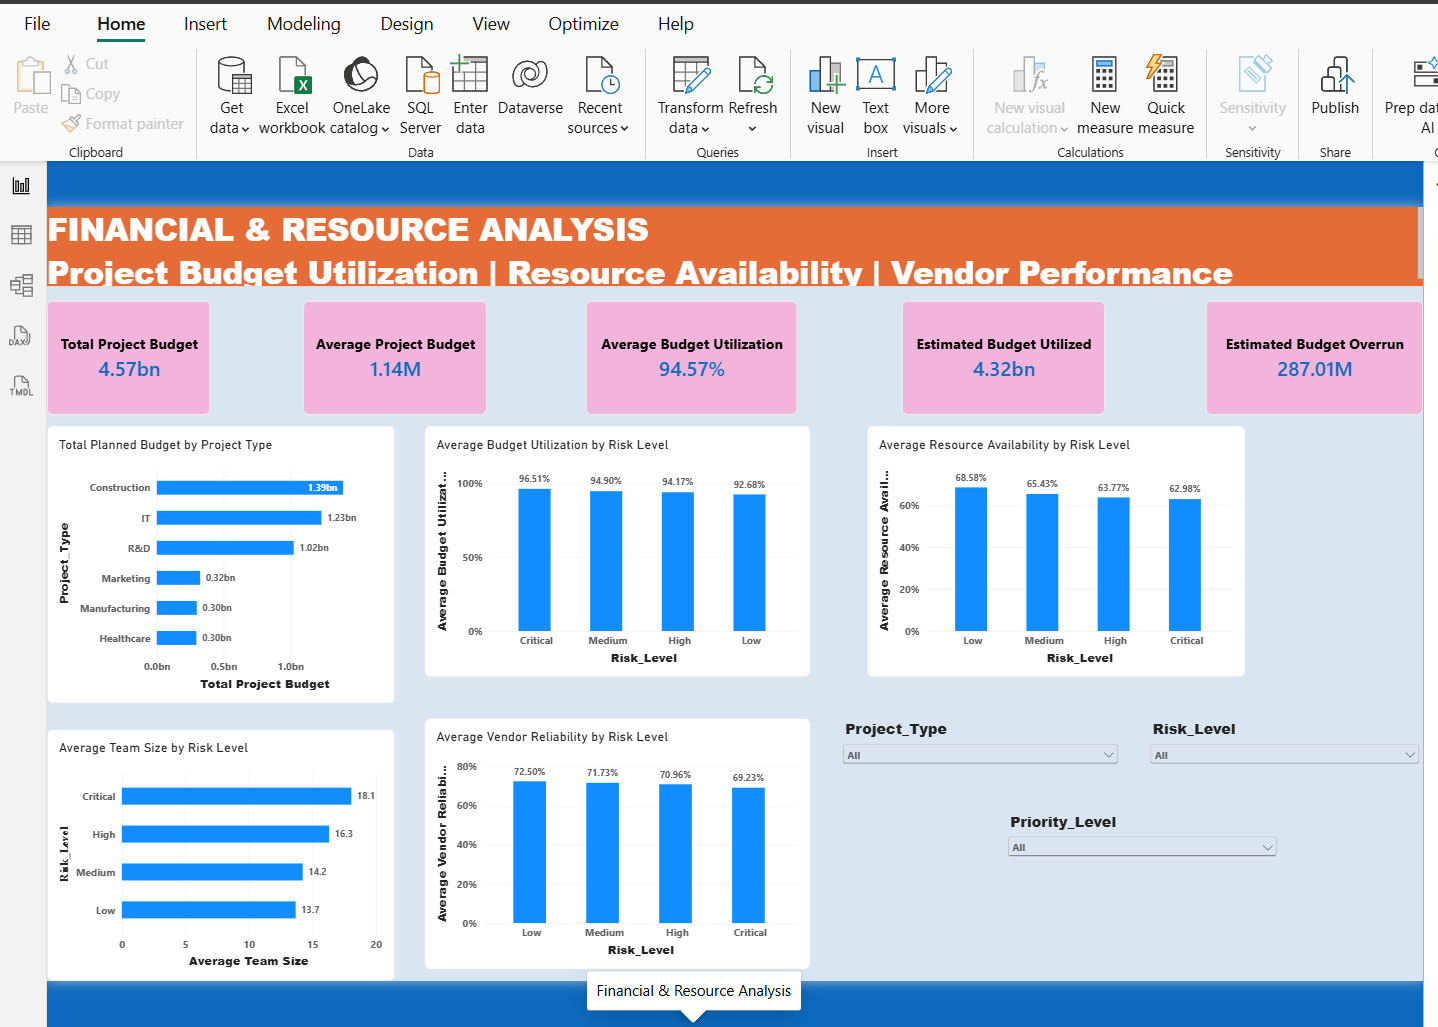

What the dashboard file says about the page in this screenshot:
{"tool":"powerbi","page":{"name":"Financial & Resource Analysis","canvas":[1920,1080],"ordinal":2},"visuals":[{"type":"textbox","box":[0,0,1920.4,110.1],"z":0},{"type":"cardVisual","fields":{"Data":["Project_Risk_Data.Total Project Budget"]},"box":[0,130.5,228.3,159],"z":1000},{"type":"cardVisual","fields":{"Data":["Project_Risk_Data.Average Project Budget"]},"box":[356.8,130.5,256.9,159],"z":2000},{"type":"cardVisual","fields":{"Data":["Project_Risk_Data.Average Budget Utilization"]},"box":[752.3,130.5,295.6,159],"z":3000},{"type":"cardVisual","fields":{"Data":["Project_Risk_Data.Estimated Budget Overrun"]},"box":[1616.7,130.5,303.8,159],"z":4000},{"type":"cardVisual","fields":{"Data":["Project_Risk_Data.Estimated Budget Utilized"]},"box":[1192.6,130.5,283.4,159],"z":5000},{"type":"clusteredBarChart","title":"Total Planned Budget by Project Type","fields":{"Category":["Project_Risk_Data.Project_Type"],"Y":["Project_Risk_Data.Total Project Budget"]},"box":[0,305.8,485.2,387.3],"z":6000},{"type":"clusteredColumnChart","title":"Average Budget Utilization by Risk Level","fields":{"Category":["Project_Risk_Data.Risk_Level"],"Y":["Project_Risk_Data.Average Budget Utilization"]},"box":[526,305.8,538.2,350.6],"z":7000},{"type":"clusteredColumnChart","title":"Average Resource Availability by Risk Level","fields":{"Category":["Project_Risk_Data.Risk_Level"],"Y":["Project_Risk_Data.Average Resource Availability"]},"box":[1143.7,305.8,528,350.6],"z":8000},{"type":"clusteredBarChart","title":"Average Team Size by Risk Level","fields":{"Category":["Project_Risk_Data.Risk_Level"],"Y":["Project_Risk_Data.Average Team Size"]},"box":[0,729.8,485.2,350.6],"z":9000},{"type":"clusteredColumnChart","title":"Average Vendor Reliability by Risk Level","fields":{"Category":["Project_Risk_Data.Risk_Level"],"Y":["Project_Risk_Data.Average Vendor Reliability"]},"box":[526,713.5,538,350],"z":10000},{"type":"slicer","fields":{"Values":["Project_Risk_Data.Project_Type"]},"box":[1105,713.5,393.5,342.5],"z":11000},{"type":"slicer","fields":{"Values":["Project_Risk_Data.Risk_Level"]},"box":[1535.1,713.5,385.3,177.4],"z":12000},{"type":"slicer","fields":{"Values":["Project_Risk_Data.Priority_Level"]},"box":[1335.3,842,385,165],"z":13000}]}

Visuals, with their boxes on the page's 1920x1080 design canvas (x1, y1, x2, y2). These are canvas units, not pixel positions in the 1438x1027 screenshot, which may show the page scaled, cropped or inside an application window:
textbox: bbox=(0, 0, 1920, 110)
cardVisual - Project_Risk_Data.Total Project Budget: bbox=(0, 130, 228, 290)
cardVisual - Project_Risk_Data.Average Project Budget: bbox=(357, 130, 614, 290)
cardVisual - Project_Risk_Data.Average Budget Utilization: bbox=(752, 130, 1048, 290)
cardVisual - Project_Risk_Data.Estimated Budget Overrun: bbox=(1617, 130, 1920, 290)
cardVisual - Project_Risk_Data.Estimated Budget Utilized: bbox=(1193, 130, 1476, 290)
"Total Planned Budget by Project Type" clusteredBarChart: bbox=(0, 306, 485, 693)
"Average Budget Utilization by Risk Level" clusteredColumnChart: bbox=(526, 306, 1064, 656)
"Average Resource Availability by Risk Level" clusteredColumnChart: bbox=(1144, 306, 1672, 656)
"Average Team Size by Risk Level" clusteredBarChart: bbox=(0, 730, 485, 1080)
"Average Vendor Reliability by Risk Level" clusteredColumnChart: bbox=(526, 714, 1064, 1064)
slicer - Project_Risk_Data.Project_Type: bbox=(1105, 714, 1498, 1056)
slicer - Project_Risk_Data.Risk_Level: bbox=(1535, 714, 1920, 891)
slicer - Project_Risk_Data.Priority_Level: bbox=(1335, 842, 1720, 1007)
